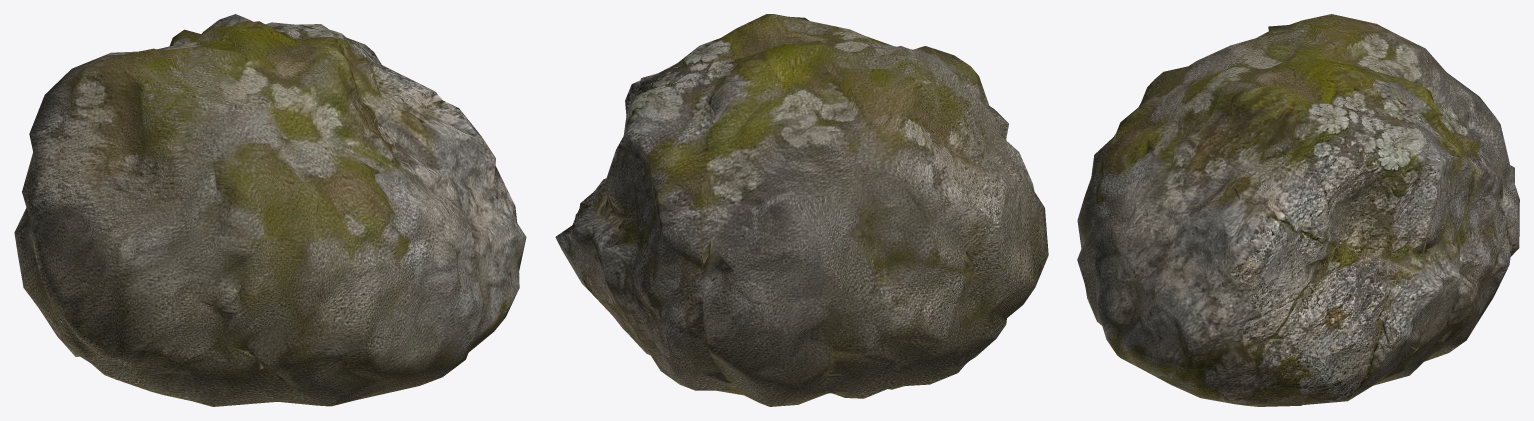
The model's file is rock-boulder.glb.
3 views of the same model, side by side, from view 1: azimuth 30°, elevation 25°; view 2: azimuth 150°, elevation 25°; view 3: azimuth 270°, elevation 25° (orthographic). The views are drawn at different scales.
Parts seen in each view (by area): view 1: tripo_node_9bd52058-d5d5-4c74-b428-8147b311ac3d; view 2: tripo_node_9bd52058-d5d5-4c74-b428-8147b311ac3d; view 3: tripo_node_9bd52058-d5d5-4c74-b428-8147b311ac3d.
Part boxes in pixels (left/top/right/bottom): tripo_node_9bd52058-d5d5-4c74-b428-8147b311ac3d: left=14, top=14, right=526, bottom=406; tripo_node_9bd52058-d5d5-4c74-b428-8147b311ac3d: left=555, top=14, right=1048, bottom=406; tripo_node_9bd52058-d5d5-4c74-b428-8147b311ac3d: left=1077, top=14, right=1519, bottom=406.
Size of the model in its own units: 1 by 0.6702 by 0.9658.
1 material, 1 textured.
